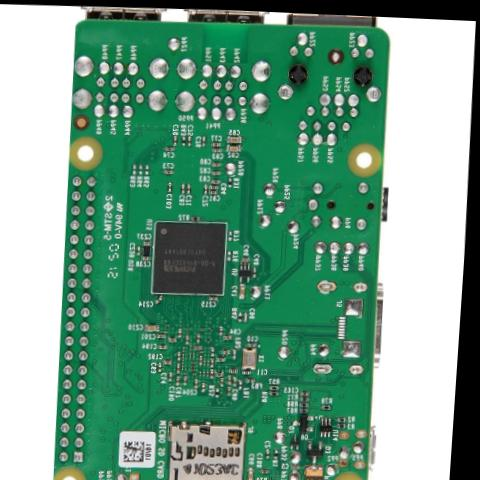Raspberry-Pi-2-Model-B: (51, 3, 404, 480)
